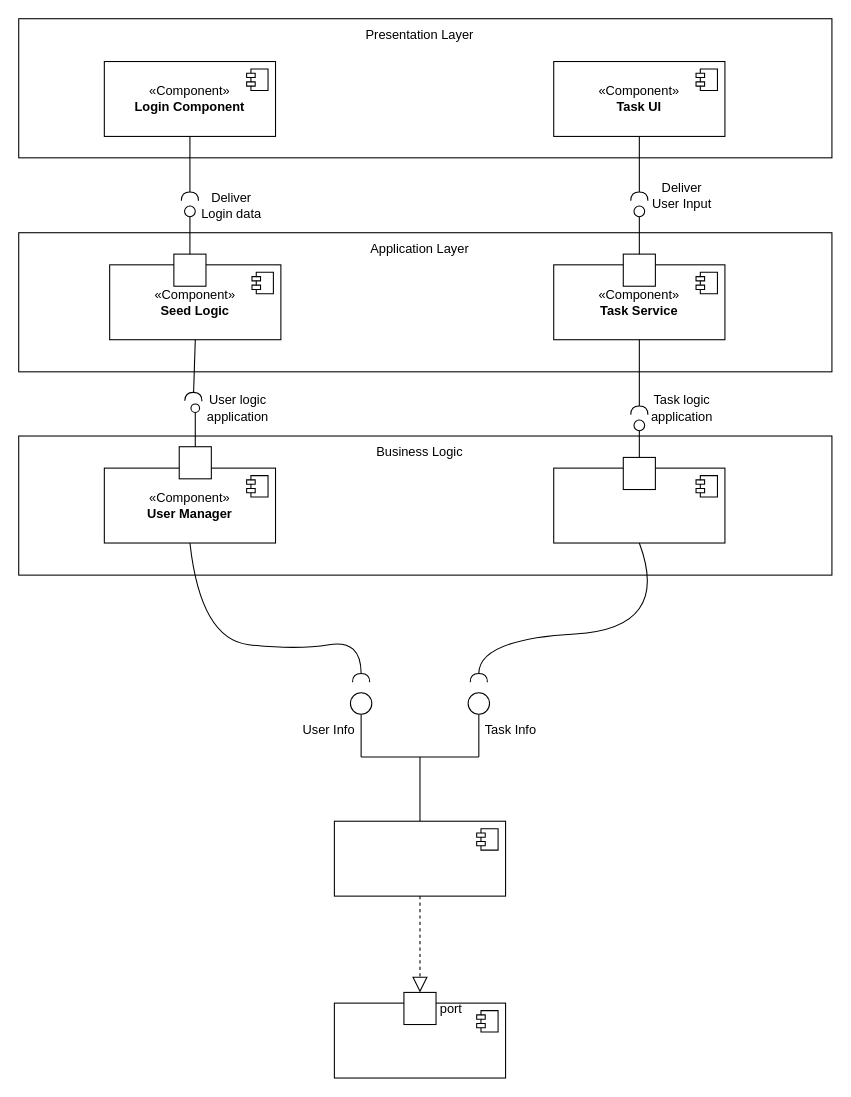
This 851x1097 diagram has some shape labels left out. Here are the shapes that lost their labels. From the top down, the box of each, then its label:
(553, 467, 725, 543): «Component» Task Manager
(333, 820, 506, 896): «Component» Data
(333, 1002, 506, 1078): «Component» Local Memory
